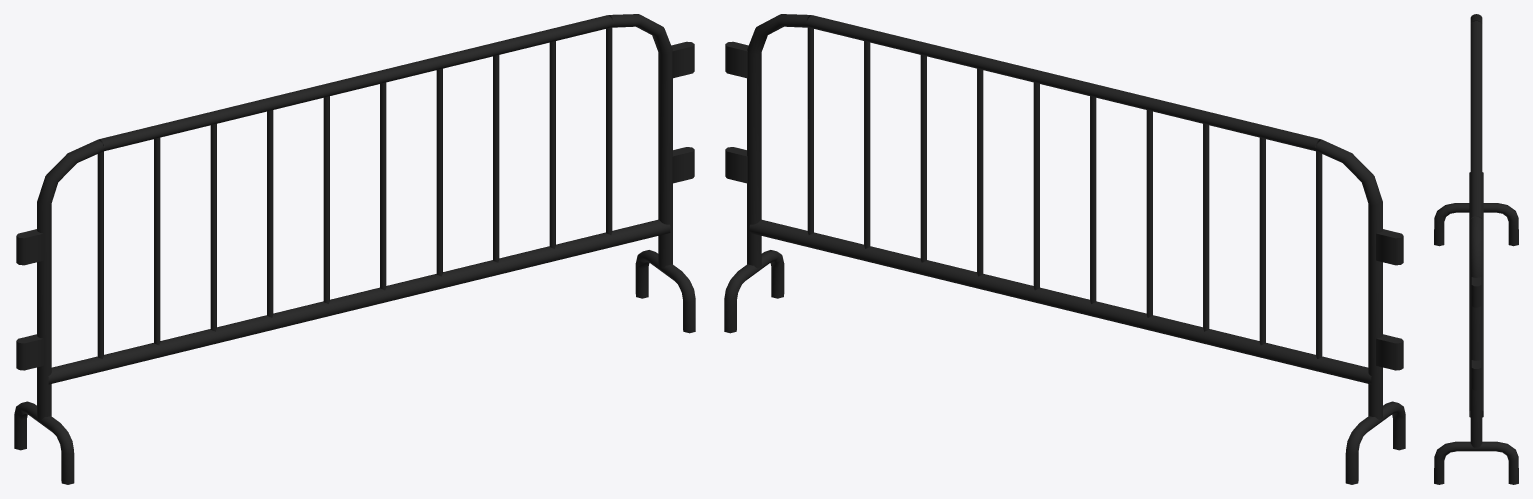
Rendered from MetalBarrierDark.glb.
3 views of the same model, side by side, from view 1: azimuth 30°, elevation 25°; view 2: azimuth 150°, elevation 25°; view 3: azimuth 270°, elevation 25° (orthographic). The views are drawn at different scales.
Parts seen in each view (by area): view 1: MetalBarrierDark; view 2: MetalBarrierDark; view 3: MetalBarrierDark.
Boxes of the visible parts, <box> form: MetalBarrierDark: <box>14,14,695,484</box>; MetalBarrierDark: <box>724,14,1405,484</box>; MetalBarrierDark: <box>1434,14,1518,484</box>.
Size of the model in its own units: 2.61 by 1.15 by 0.36.
Materials: 1 (1 with a texture image).
